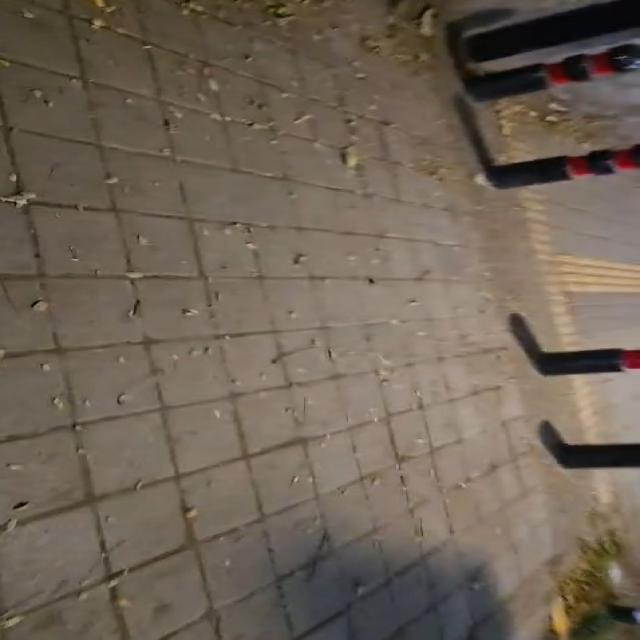obstacle: (462, 0, 639, 63), (465, 44, 639, 101), (509, 314, 639, 376), (485, 146, 639, 189), (540, 422, 639, 469)
